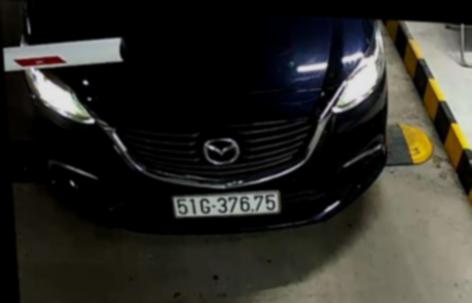License_Plate: (167, 184, 283, 226)
